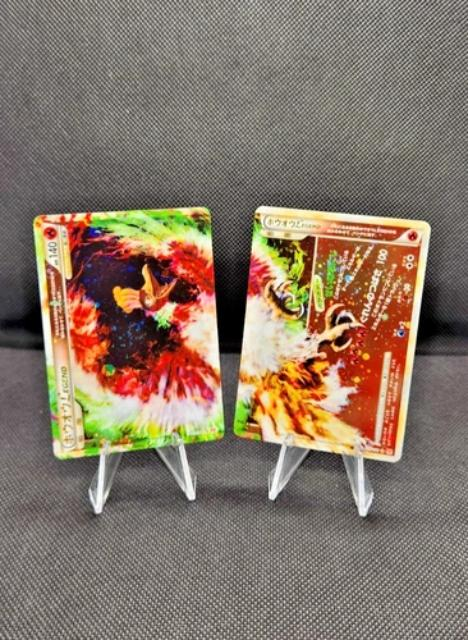Card: (231, 202, 436, 466), (29, 203, 229, 464)
Name: (53, 361, 77, 449), (262, 214, 327, 235)
